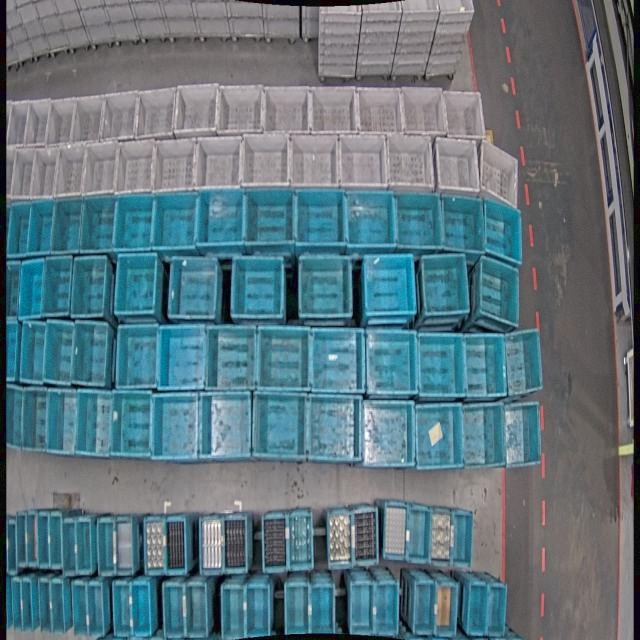Box: (297, 253, 353, 322), (362, 252, 418, 320), (256, 324, 312, 392), (230, 254, 285, 323), (366, 327, 419, 396), (412, 400, 464, 470), (360, 398, 412, 468), (311, 328, 366, 394), (474, 256, 522, 330), (293, 186, 348, 250), (306, 393, 356, 463), (166, 255, 218, 322), (254, 392, 304, 459), (416, 330, 465, 398), (344, 188, 396, 251), (421, 252, 472, 316), (462, 400, 510, 468), (246, 187, 298, 249), (159, 323, 206, 391), (206, 392, 252, 460), (288, 133, 340, 193), (499, 399, 544, 468), (338, 133, 388, 195), (464, 331, 510, 398), (197, 188, 247, 249), (395, 189, 444, 251), (388, 134, 437, 196), (211, 325, 256, 392), (242, 132, 292, 192), (115, 252, 159, 318), (156, 394, 200, 460), (434, 137, 484, 195), (438, 192, 484, 255), (111, 391, 154, 458), (195, 135, 243, 194), (154, 190, 201, 250), (482, 201, 524, 268), (216, 81, 266, 137), (117, 323, 159, 389), (261, 84, 311, 138), (356, 84, 406, 138), (307, 82, 357, 136), (505, 327, 543, 398), (437, 88, 485, 144), (172, 80, 218, 138), (481, 139, 518, 210), (153, 138, 198, 196), (72, 321, 111, 386), (114, 194, 157, 252), (400, 86, 445, 141), (99, 88, 141, 144), (73, 255, 110, 318), (135, 85, 177, 140), (116, 140, 157, 193), (82, 142, 119, 198), (82, 195, 118, 252), (51, 196, 85, 254), (46, 322, 78, 383), (53, 146, 88, 200), (48, 391, 78, 454), (74, 391, 102, 456), (28, 147, 62, 200), (44, 256, 74, 316), (351, 506, 379, 568), (22, 389, 50, 451), (45, 96, 79, 147), (19, 322, 47, 383), (71, 96, 104, 147), (329, 507, 356, 568), (405, 504, 432, 565), (381, 500, 408, 561), (286, 508, 312, 570), (27, 197, 54, 255), (19, 260, 46, 318), (264, 510, 288, 573), (373, 580, 399, 637), (224, 514, 249, 573), (222, 583, 248, 639), (428, 509, 452, 569), (244, 582, 270, 637), (25, 97, 53, 148), (450, 511, 474, 570), (10, 148, 37, 200), (164, 514, 187, 575), (201, 514, 224, 574), (350, 584, 375, 639), (412, 580, 436, 637), (308, 582, 334, 634), (467, 581, 491, 637), (144, 514, 166, 574), (163, 582, 186, 638), (436, 580, 458, 638), (7, 201, 30, 256), (185, 582, 208, 637), (131, 581, 153, 637), (285, 585, 310, 634), (115, 515, 135, 574), (113, 584, 133, 640), (6, 100, 28, 150), (6, 384, 23, 448), (96, 516, 114, 574), (88, 580, 106, 638), (488, 584, 507, 637), (71, 582, 89, 637), (6, 261, 21, 321), (75, 516, 90, 574), (51, 579, 66, 634), (36, 510, 50, 568), (48, 510, 62, 568), (38, 579, 52, 634), (6, 320, 18, 383), (24, 510, 37, 568), (15, 511, 28, 569), (21, 577, 34, 632), (11, 577, 23, 632), (31, 578, 43, 632), (6, 519, 16, 576), (362, 0, 402, 13), (400, 0, 440, 13), (438, 0, 475, 13), (319, 5, 362, 13)
